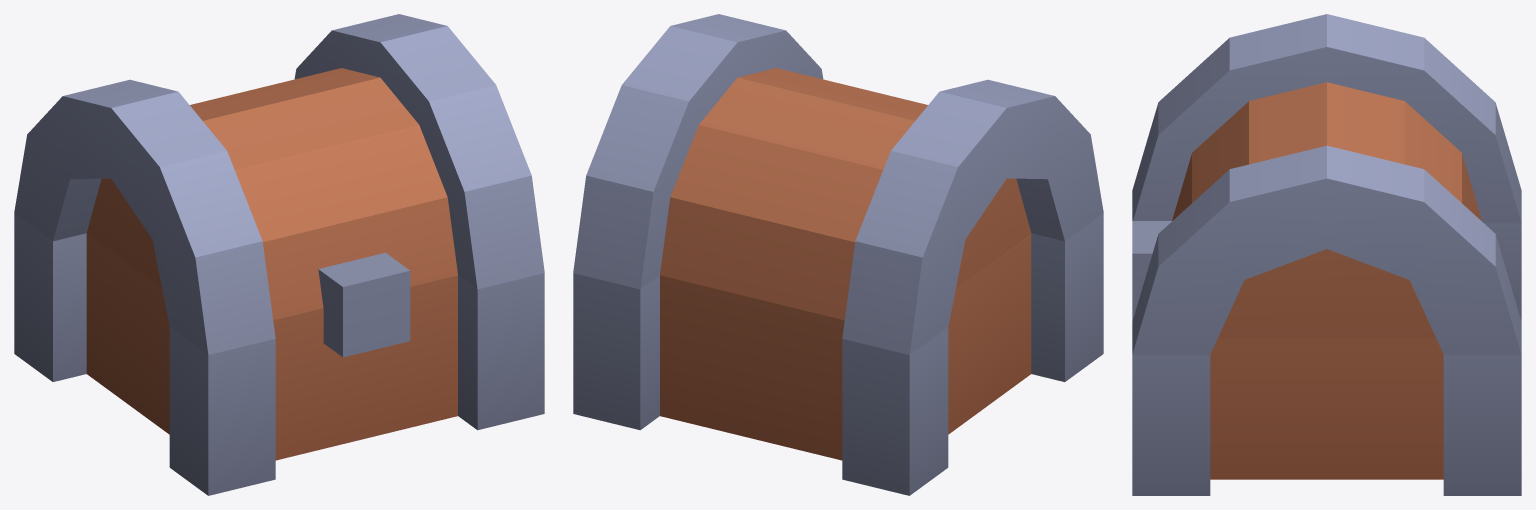
The model's file is chest.glb.
3 renders of one model, left to right at view 1: azimuth 30°, elevation 25°; view 2: azimuth 150°, elevation 25°; view 3: azimuth 270°, elevation 25°, orthographic.
Visible parts, largest first — view 1: geometry_0; view 2: geometry_0; view 3: geometry_0.
Part boxes in pixels (left/top/right/bottom): geometry_0: left=14, top=14, right=544, bottom=495; geometry_0: left=573, top=14, right=1103, bottom=495; geometry_0: left=1132, top=14, right=1521, bottom=495.
Bounding box in the file's own units: 0.9222 × 0.83 × 0.9222.
